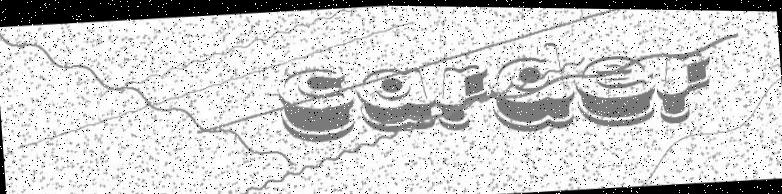a: (355, 63, 437, 134)
c: (275, 64, 359, 145)
d: (487, 38, 577, 134)
e: (573, 50, 657, 129)
r: (653, 47, 715, 124), (433, 61, 492, 132)
